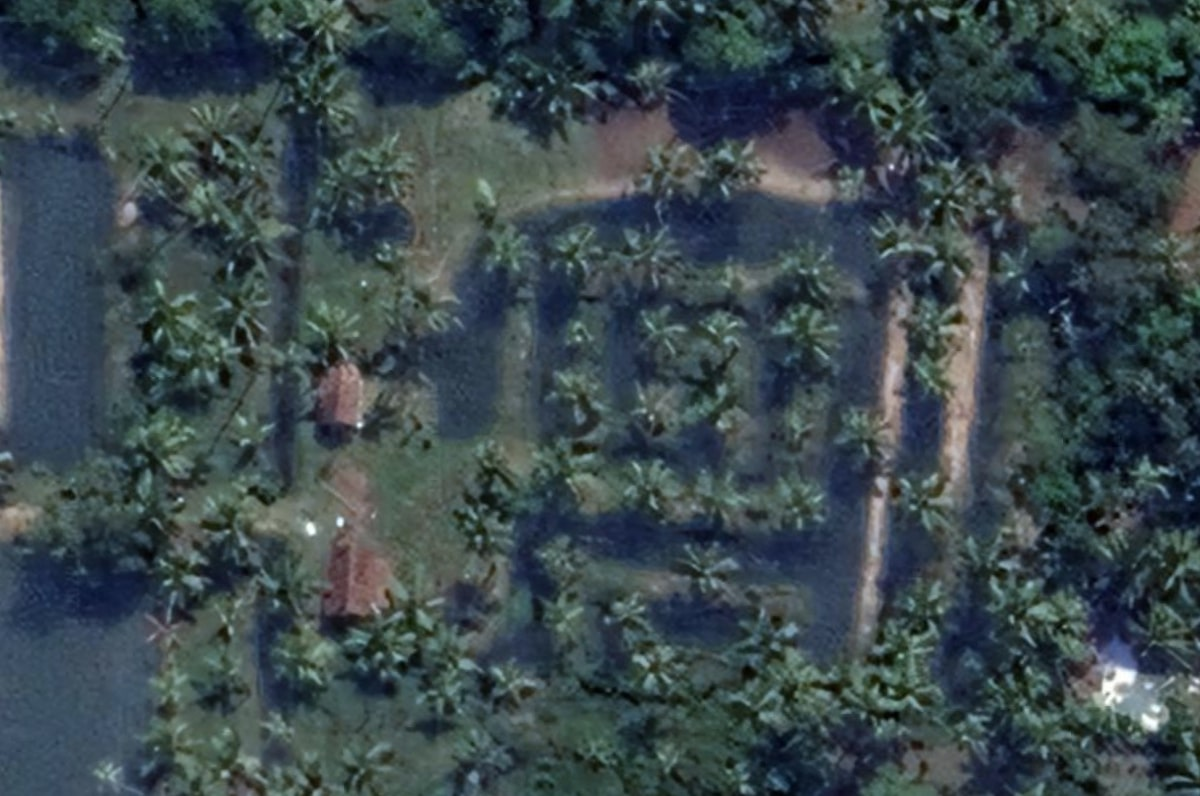coconut: (764, 300, 845, 384), (613, 139, 702, 213), (666, 537, 745, 608), (892, 274, 966, 347), (772, 239, 850, 308), (179, 97, 254, 166), (876, 93, 948, 164), (346, 607, 412, 682), (542, 359, 610, 429), (617, 223, 680, 298), (126, 411, 188, 487), (887, 474, 958, 540), (696, 303, 752, 386), (531, 432, 597, 502), (696, 142, 764, 208), (212, 280, 278, 347), (896, 351, 964, 415), (629, 372, 686, 445), (299, 305, 363, 369), (771, 471, 833, 535), (144, 287, 206, 351), (684, 471, 742, 535), (622, 455, 674, 525), (735, 606, 800, 662), (353, 134, 416, 191), (847, 403, 898, 470), (553, 227, 608, 289), (629, 303, 684, 363), (623, 638, 682, 693), (336, 740, 394, 795), (528, 589, 587, 643), (140, 722, 194, 777), (478, 656, 534, 704), (598, 593, 651, 642), (486, 231, 533, 284), (418, 666, 461, 716), (229, 405, 277, 449), (151, 666, 189, 709), (260, 712, 291, 745)
